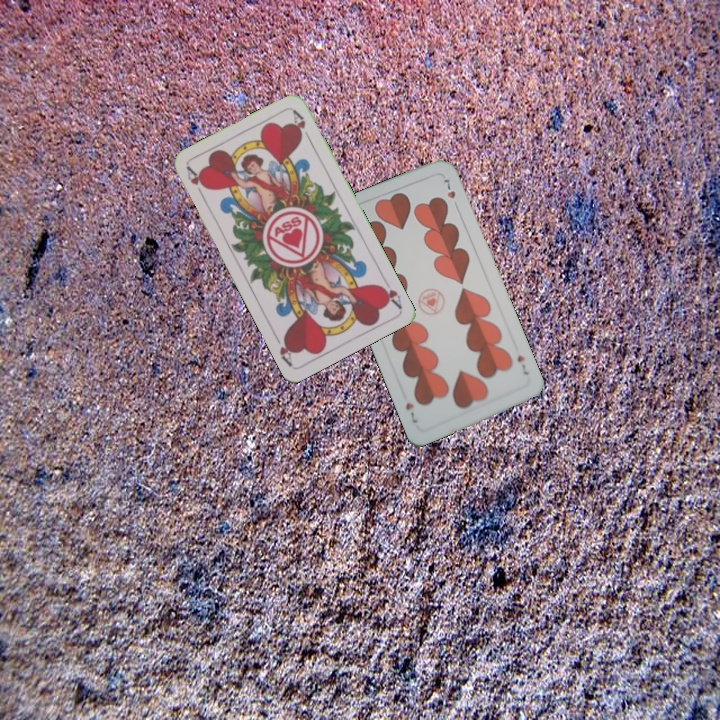H7: (513, 351, 531, 377)
HA: (375, 273, 404, 311), (182, 163, 210, 201)
